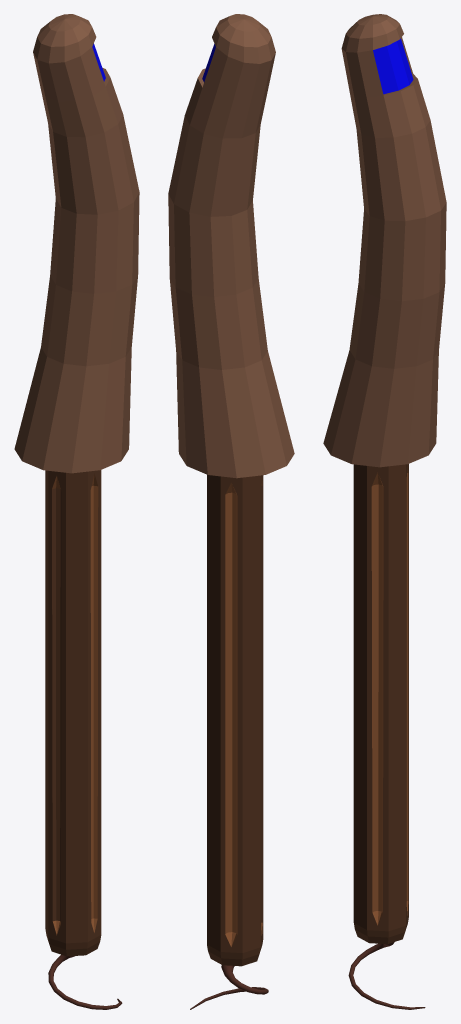
Rendered from Wand 549.glb.
3 renders of one model, left to right at view 1: azimuth 30°, elevation 25°; view 2: azimuth 150°, elevation 25°; view 3: azimuth 330°, elevation 25°, orthographic. The views are drawn at different scales.
Parts seen in each view (by area): view 1: GeneratedWand; view 2: GeneratedWand; view 3: GeneratedWand.
Boxes of the visible parts, x1,y1,x2,y2 form: GeneratedWand: [14, 14, 139, 1009]; GeneratedWand: [168, 14, 294, 1009]; GeneratedWand: [323, 14, 446, 1009].
Bounding box in the file's own units: 0.0644 × 0.5464 × 0.0572.
